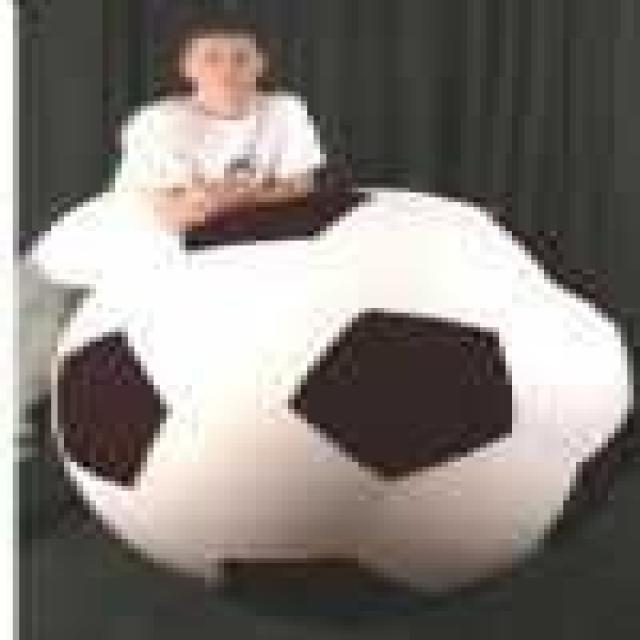ball: (52, 190, 640, 622)
